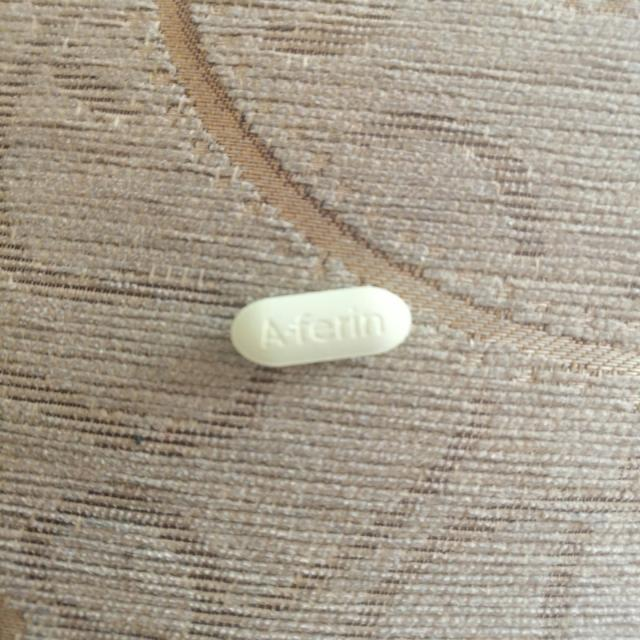pills: (219, 282, 420, 369)
